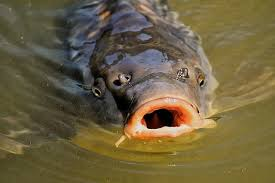carp: (61, 1, 220, 149)
